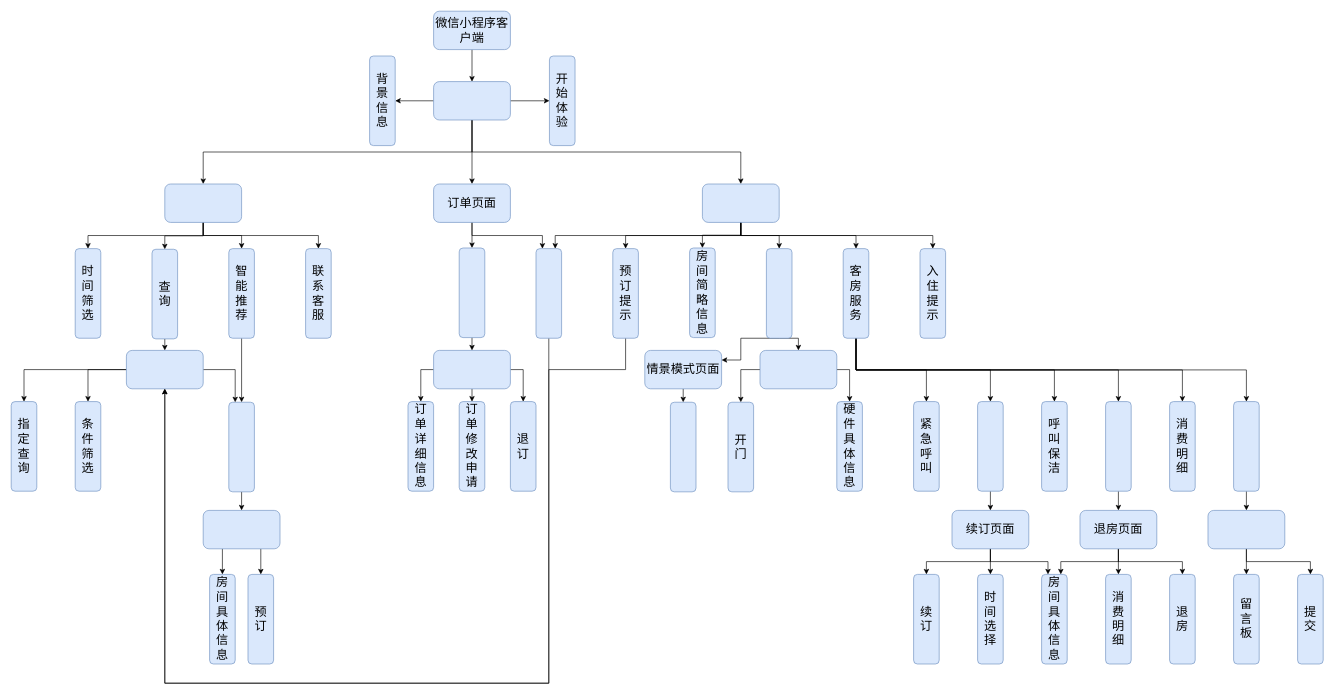
Some shapes in this 1334 by 700 pixel diagram are drawn without their labels. The shapes that lost their labels are listed below. From the top down, each one's centre as x and y in pixels, then its label:
(x=471, y=100): 欢迎页面（初始化）
(x=203, y=202): 首页
(x=740, y=202): 在住页面
(x=472, y=292): 订 单 简 略 信 息
(x=548, y=293): 初 次 预 订 提 示
(x=779, y=293): 硬 件 简 略 信 息
(x=164, y=369): 房间列表页面
(x=471, y=369): 订单详情页面
(x=798, y=369): 硬件操控页面
(x=241, y=447): 房 间 部 分 信 息
(x=683, y=447): 情 景 模 式
(x=990, y=446): 一 键 续 住
(x=1118, y=446): 预 约 退 房
(x=1246, y=446): 一 键 反 馈
(x=241, y=529): 房间预订页面
(x=1246, y=529): 反馈页面
